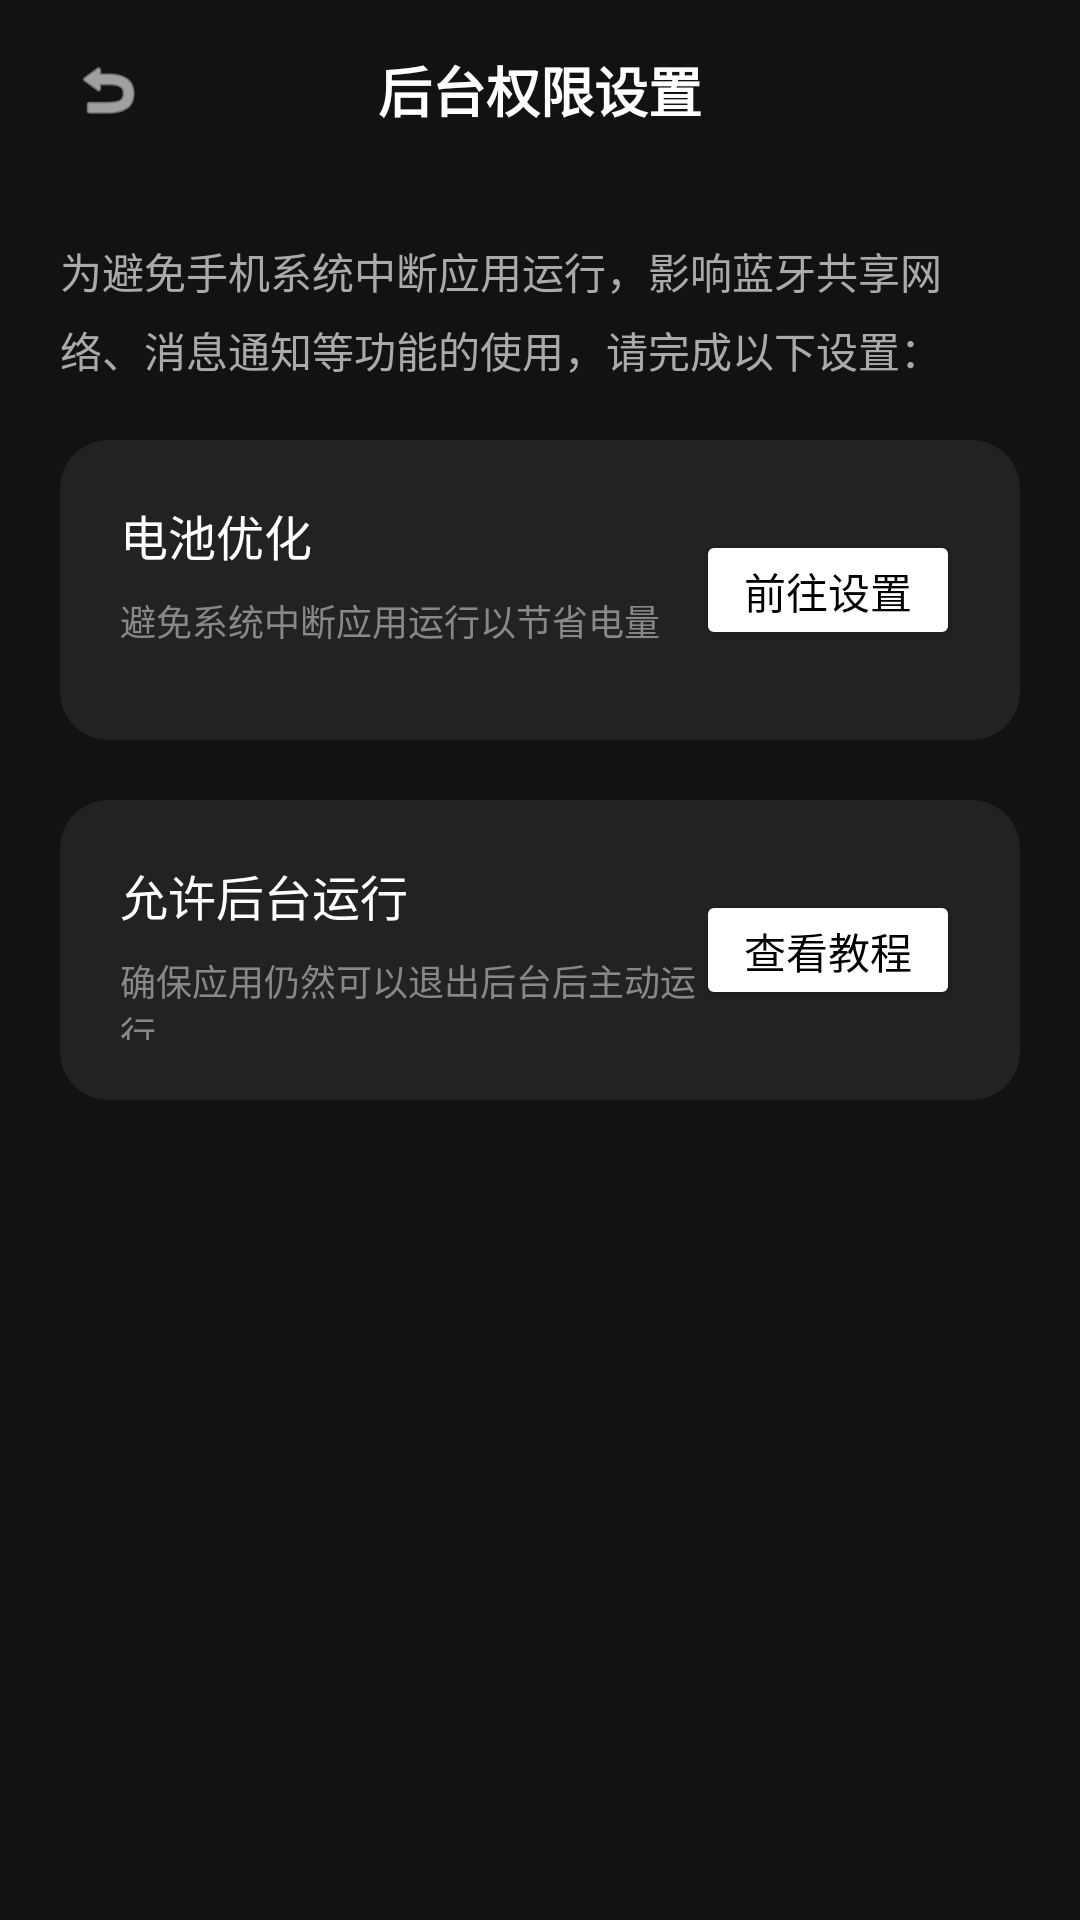

Icons on this 1080 x 1920 Android screen, each with its box as box=[x1, y1, x2, y2]:
revert: box=[83, 67, 135, 114]
